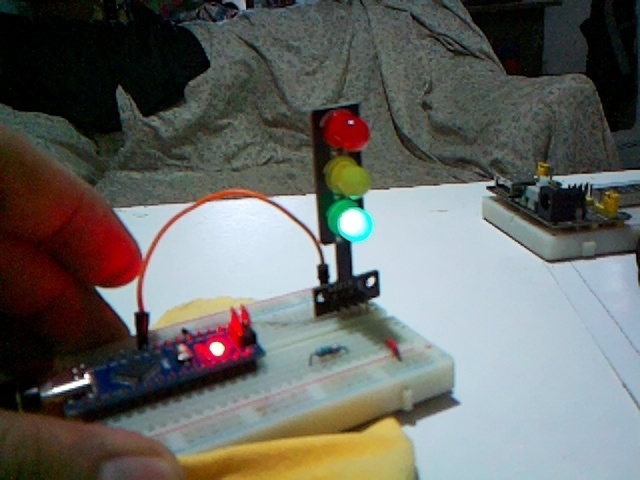traffic_light_green: (313, 105, 378, 314)
